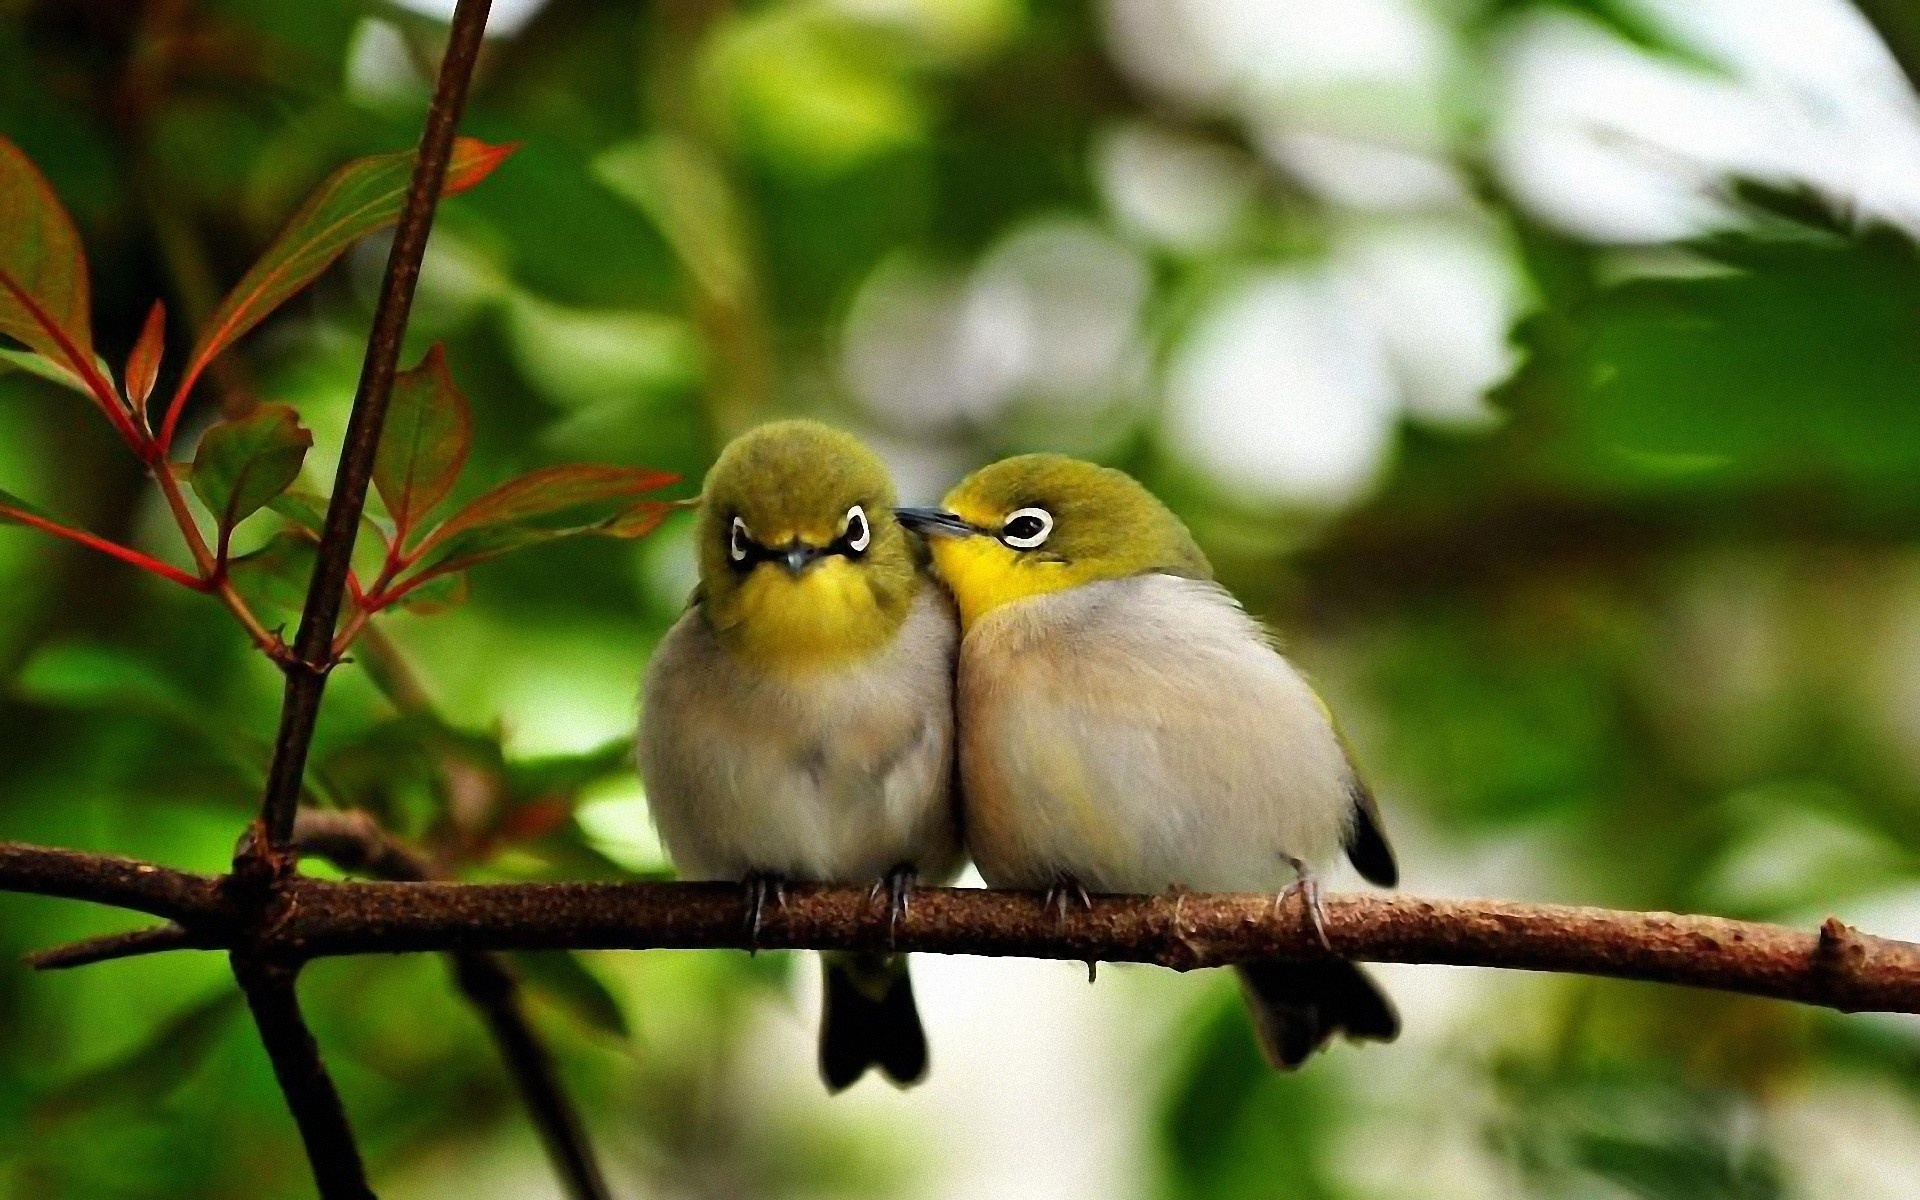bird: (885, 447, 1471, 1065), (623, 409, 959, 1109)
